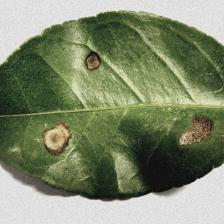canker: (33, 44, 215, 158)
